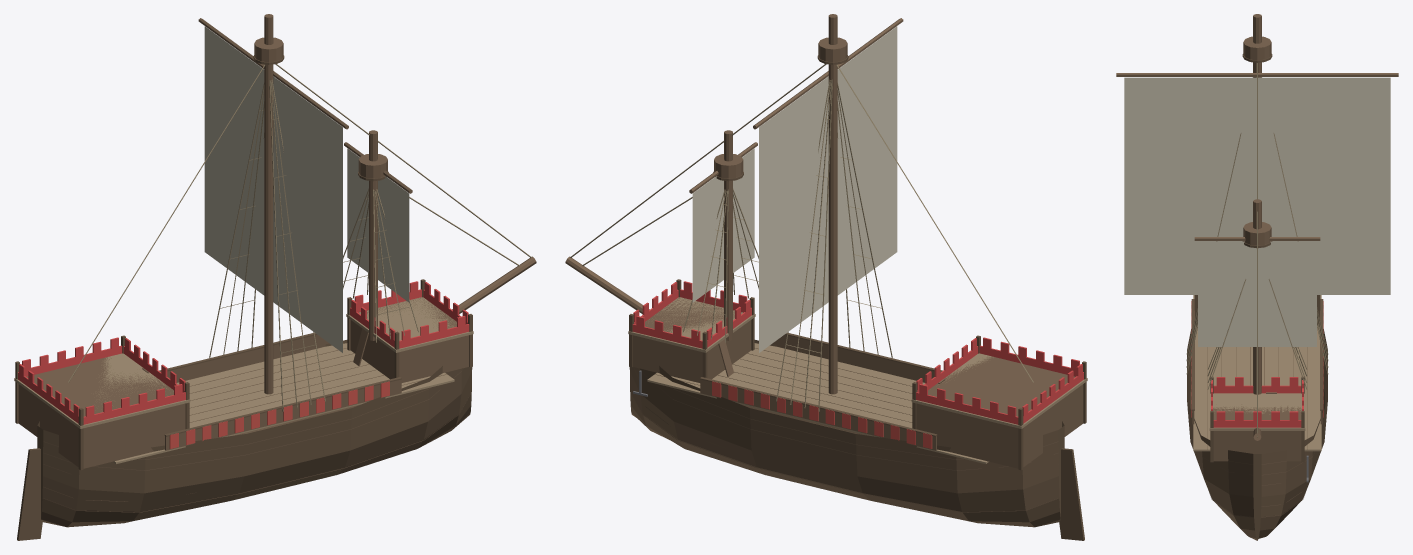
Rendered from nef.glb.
The picture shows the model from 3 angles, left to right: view 1: azimuth 30°, elevation 25°; view 2: azimuth 150°, elevation 25°; view 3: azimuth 270°, elevation 25°; orthographic projection. The views are drawn at different scales.
Parts seen in each view (by area): view 1: nef; view 2: nef; view 3: nef.
Boxes of the visible parts, bbox=[...] form: nef: bbox=[14, 14, 536, 540]; nef: bbox=[565, 14, 1087, 540]; nef: bbox=[1116, 14, 1398, 540].
Bounding box in the file's own units: 36.7 × 31.58 × 18.
